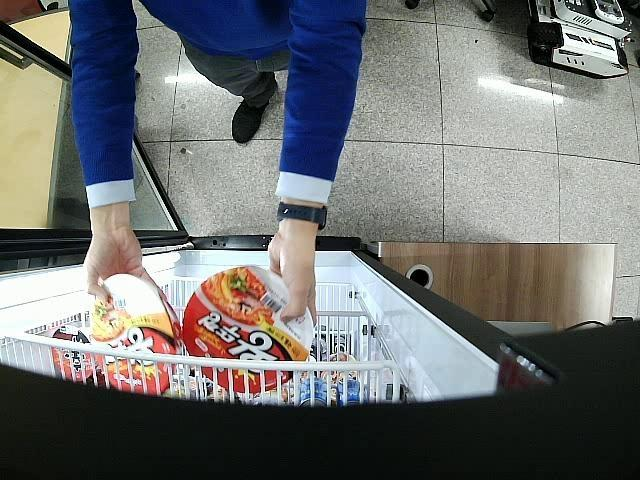10_wangTtukkeong: (179, 265, 314, 393), (90, 272, 183, 394)
